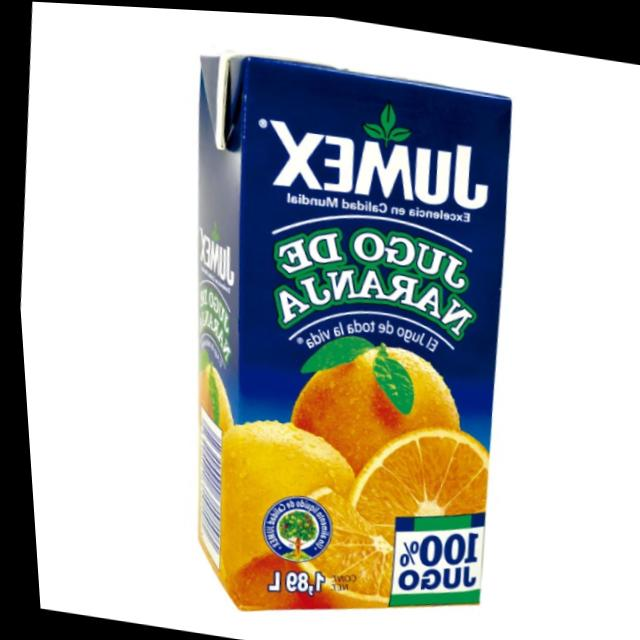Caja: (151, 24, 561, 640)
